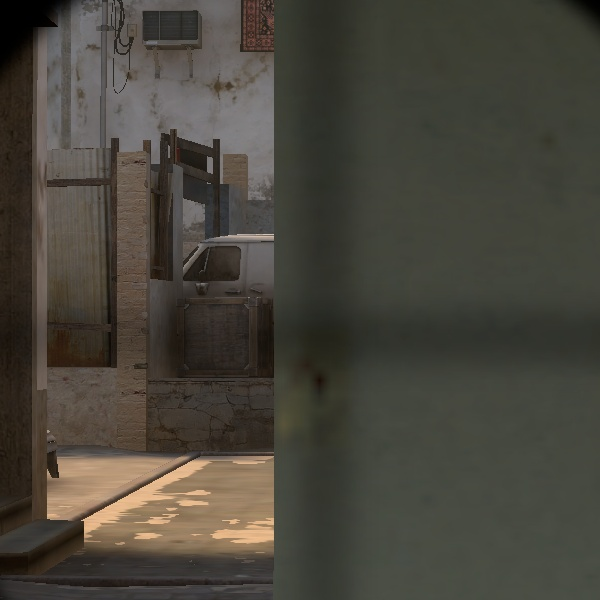t_body: (38, 424, 65, 480)
